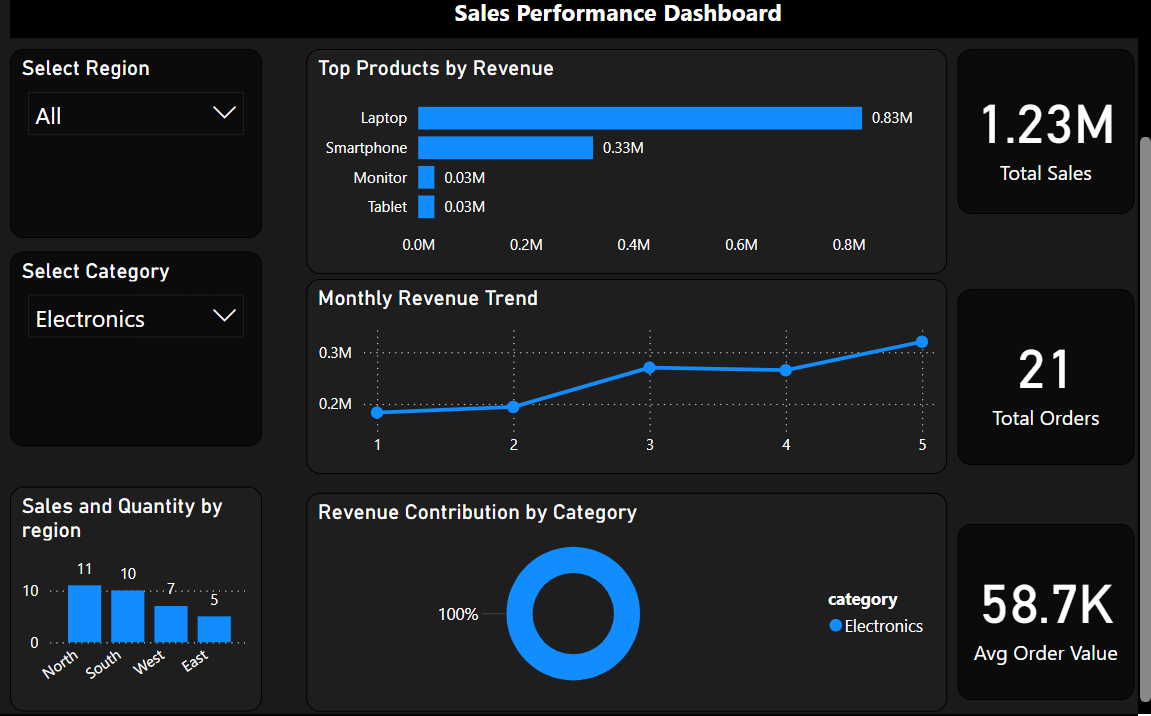

What the dashboard file says about the page in this screenshot:
{"tool":"powerbi","page":{"name":"Page 1","canvas":[1280,720],"ordinal":0},"visuals":[{"type":"donutChart","title":"Revenue Contribution  by Category","fields":{"Y":["Query1.total sales"],"Category":["Query1.category"]},"box":[245,531,513,175],"z":0},{"type":"lineChart","title":"Monthly Revenue Trend","fields":{"Y":["Query1.total sales"],"Category":["Query1.order_month"]},"box":[245,360,513,156],"z":1000},{"type":"clusteredColumnChart","title":"Sales and Quantity by region","fields":{"Category":["Query1.region"],"Y":["Sum(Query1.quantity)"]},"box":[8,526,202,180],"z":2000},{"type":"clusteredBarChart","title":"Top Products by Revenue","fields":{"Y":["Query1.total sales"],"Category":["Query1.product_name"]},"box":[245,176,513,180],"z":3000},{"type":"card","fields":{"Values":["Query1.total sales"]},"box":[766,176,142,132],"z":4000},{"type":"slicer","title":"Select Category","fields":{"Values":["Query1.category"]},"box":[8,338,202,156],"z":5000},{"type":"card","fields":{"Values":["Query1.Total Orders"]},"box":[766,368,142,141],"z":6000},{"type":"card","fields":{"Values":["Query1.Avg Order Value"]},"box":[766,556,142,141],"z":7000},{"type":"slicer","title":"Select Region","fields":{"Values":["Query1.region"]},"box":[8,176,202,151],"z":8000},{"type":"textbox","box":[8,129,974,38],"z":9000}]}

Visuals, with their boxes on the page's 1280x720 design canvas (x1, y1, x2, y2). These are canvas units, not pixel positions in the 1151x716 screenshot, which may show the page scaled, cropped or inside an application window:
"Revenue Contribution  by Category" donutChart: bbox=(245, 531, 758, 706)
"Monthly Revenue Trend" lineChart: bbox=(245, 360, 758, 516)
"Sales and Quantity by region" clusteredColumnChart: bbox=(8, 526, 210, 706)
"Top Products by Revenue" clusteredBarChart: bbox=(245, 176, 758, 356)
card - Query1.total sales: bbox=(766, 176, 908, 308)
"Select Category" slicer: bbox=(8, 338, 210, 494)
card - Query1.Total Orders: bbox=(766, 368, 908, 509)
card - Query1.Avg Order Value: bbox=(766, 556, 908, 697)
"Select Region" slicer: bbox=(8, 176, 210, 327)
textbox: bbox=(8, 129, 982, 167)
